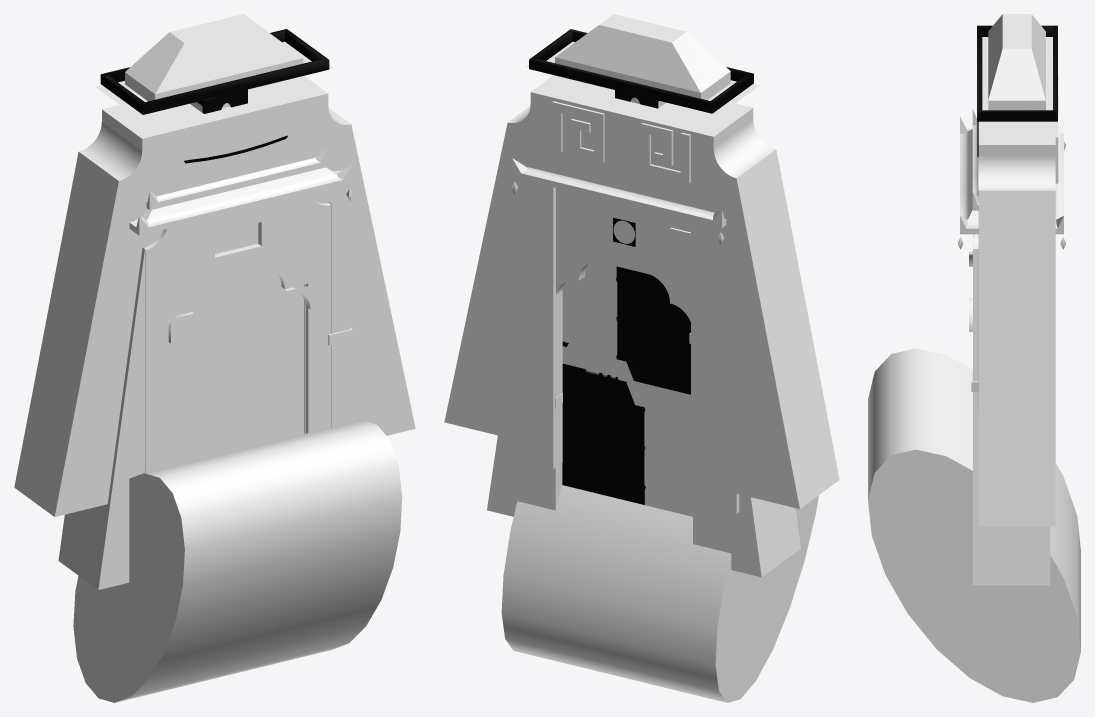
File: SeaGate_EnterScene.fbx
3 views of the same model, side by side, from view 1: azimuth 30°, elevation 25°; view 2: azimuth 150°, elevation 25°; view 3: azimuth 270°, elevation 25° (orthographic). The views are drawn at different scales.
Visible parts, largest first — view 1: WaterSurfaceDepthObject, Whitebox_Slope (1), DepthFadeCube, Whitebox_Slope (×3), Whitebox_cube (2) (×2), Whitebox_cube (×2), Rooftops_B, Whitebox_cube (1) (×2), Whitebox_cube (6), Rooftops_Four_Point_Village_Middle_Wide, Crenellations_Hausa_RoofWallSingle (7), Rooftops_Four_Point_Village_Middle_Wide (1) (+6 smaller); view 2: WaterSurfaceDepthObject, Whitebox_Slope (1), Whitebox_Slope (×3), Whitebox_cube (1) (×2), Whitebox_cube (2) (×2), Doors_SlidingDoor_Top, Whitebox_cube (×2), Doors_SlidingDoor_Top (1), Rooftops_B, Rooftops_Four_Point_Village_Middle_Wide, Crenellations_Hausa_RoofWallSingle, TowerSwirl (+7 smaller); view 3: WaterSurfaceDepthObject, Whitebox_Slope (×2), Rooftops_B, Whitebox_Concave, Whitebox_cube (2), Rooftops_Four_Point_Village_Middle_Wide, Crenellations_Hausa_RoofWallSingle (×2), Rooftops_Four_Point_Village_Middle_Wide (1), Crenellations_Hausa_RoofWallSingle (7).
Boxes of the visible parts, x1,y1,x2,y2 form: WaterSurfaceDepthObject: (73,420,402,702); Whitebox_Slope (1): (14,152,118,516); DepthFadeCube: (168,223,304,466); Whitebox_Slope (×3): (58,126,415,589); Whitebox_cube (2) (×2): (102,76,328,287); Whitebox_cube (×2): (119,170,168,472); Rooftops_B: (95,14,332,115); Whitebox_cube (1) (×2): (168,124,351,433); Whitebox_cube (6): (305,205,331,433); Rooftops_Four_Point_Village_Middle_Wide: (129,164,352,235); Crenellations_Hausa_RoofWallSingle (7): (140,59,329,114); Rooftops_Four_Point_Village_Middle_Wide (1): (146,147,328,210); WaterSurfaceDepthObject: (501,485,818,702); Whitebox_Slope (1): (736,150,839,508); Whitebox_Slope (×3): (444,123,800,577); Whitebox_cube (1) (×2): (507,122,690,469); Whitebox_cube (2) (×2): (530,75,753,279); Doors_SlidingDoor_Top: (562,363,692,516); Whitebox_cube (×2): (691,173,739,549); Doors_SlidingDoor_Top (1): (562,262,690,394); Rooftops_B: (526,14,759,114); Rooftops_Four_Point_Village_Middle_Wide: (512,158,726,228); Crenellations_Hausa_RoofWallSingle: (529,58,714,113); TowerSwirl: (552,101,604,162); WaterSurfaceDepthObject: (868,348,1080,702); Whitebox_Slope (×2): (973,190,1055,585); Rooftops_B: (978,14,1055,123); Whitebox_Concave: (978,156,1055,190); Whitebox_cube (2): (978,124,1055,156); Rooftops_Four_Point_Village_Middle_Wide: (960,116,1063,234); Crenellations_Hausa_RoofWallSingle (×2): (978,25,1057,121); Rooftops_Four_Point_Village_Middle_Wide (1): (972,109,978,210); Crenellations_Hausa_RoofWallSingle (7): (977,25,982,121).
Bounding box in the file's own units: 15.53 × 26.68 × 8.3.
Materials: 10 (2 with a texture image).
